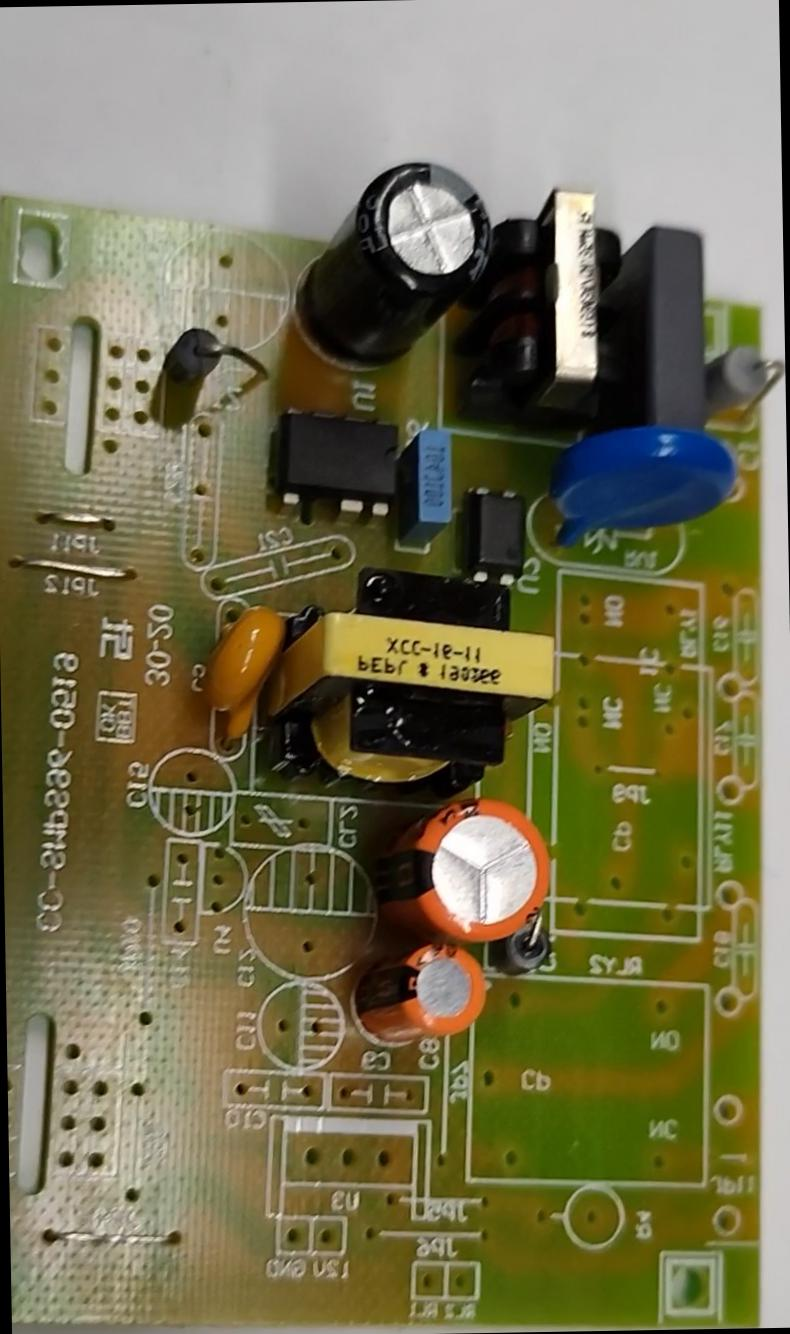Cap1: (388, 802, 546, 939)
Cap2: (360, 946, 487, 1046)
Cap3: (302, 158, 491, 366)
MOSFET: (272, 410, 398, 520)
Mov: (556, 426, 738, 543)
Resistor: (706, 348, 782, 418)
Transformer: (268, 574, 556, 793), (486, 189, 628, 409)
